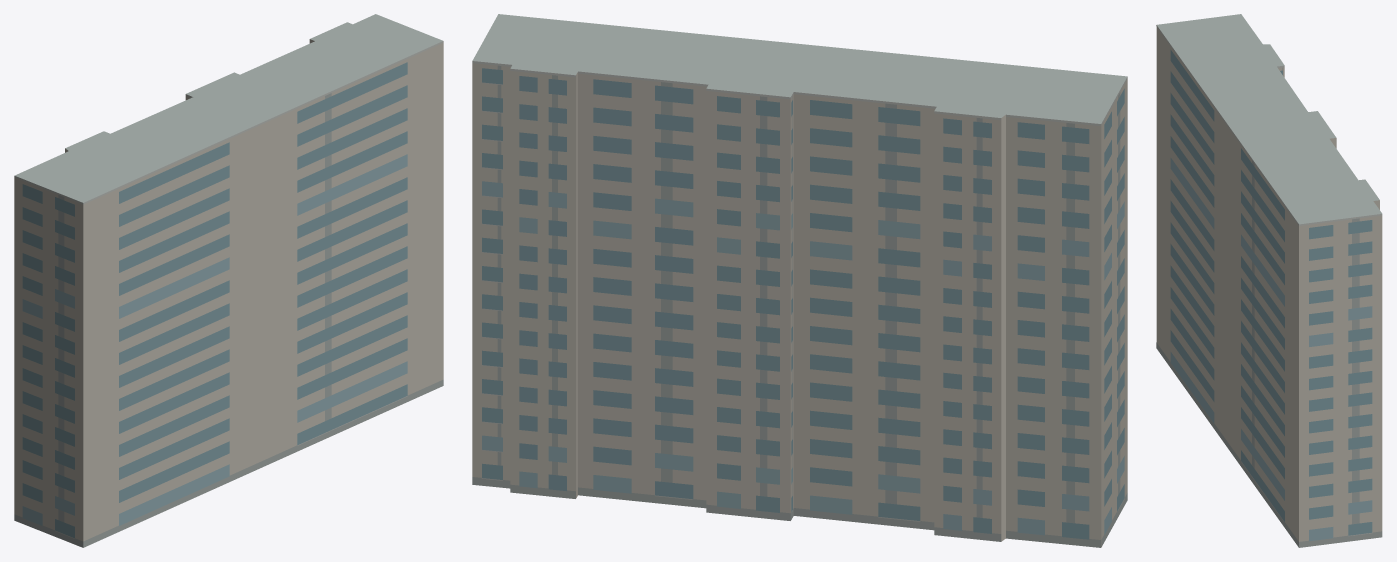
Rendered from residential-47e498d8-0635-4987-9ae5-ff71b10af782.glb.
3 views of the same model, side by side, from view 1: azimuth 30°, elevation 25°; view 2: azimuth 150°, elevation 25°; view 3: azimuth 270°, elevation 25° (orthographic). The views are drawn at different scales.
Parts seen in each view (by area): view 1: residential-47e498d8-0635-4987-9ae5-ff71b10af782.tmp; view 2: residential-47e498d8-0635-4987-9ae5-ff71b10af782.tmp; view 3: residential-47e498d8-0635-4987-9ae5-ff71b10af782.tmp.
Boxes of the visible parts, left/top/right/bottom form: residential-47e498d8-0635-4987-9ae5-ff71b10af782.tmp: left=14, top=14, right=443, bottom=547; residential-47e498d8-0635-4987-9ae5-ff71b10af782.tmp: left=472, top=14, right=1127, bottom=547; residential-47e498d8-0635-4987-9ae5-ff71b10af782.tmp: left=1156, top=14, right=1382, bottom=547.
Bounding box in the file's own units: 65.56 × 47 × 29.76.
